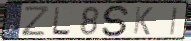8: (79, 6, 100, 37)
I: (169, 5, 180, 36)
K: (131, 6, 154, 37)
L: (51, 5, 72, 36)
S: (100, 4, 132, 38)
Z: (21, 5, 52, 37)
